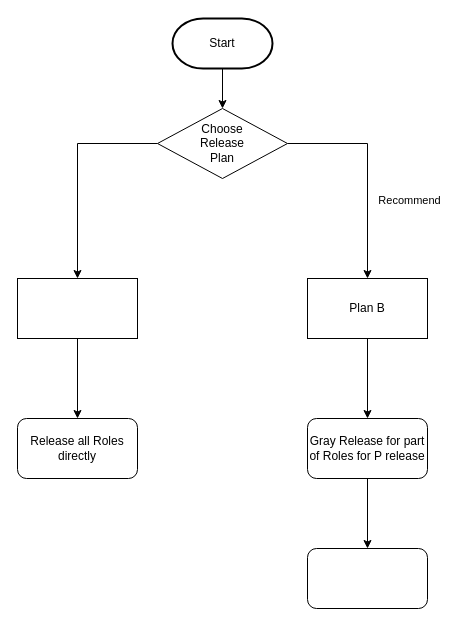
This 457x626 diagram has some shape labels left out. Each missing label, with the centre of its shape:
"Plan A" belongs at pixel 77 308.
"Release all Roles for next release" belongs at pixel 367 578.
